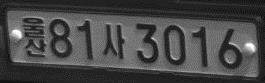0: (163, 24, 186, 65)
1: (76, 18, 95, 61), (190, 25, 209, 68)
3: (133, 22, 160, 64)
6: (216, 27, 243, 71)
8: (47, 17, 73, 58)
사: (101, 22, 125, 60)
울산_V: (21, 15, 47, 59)
